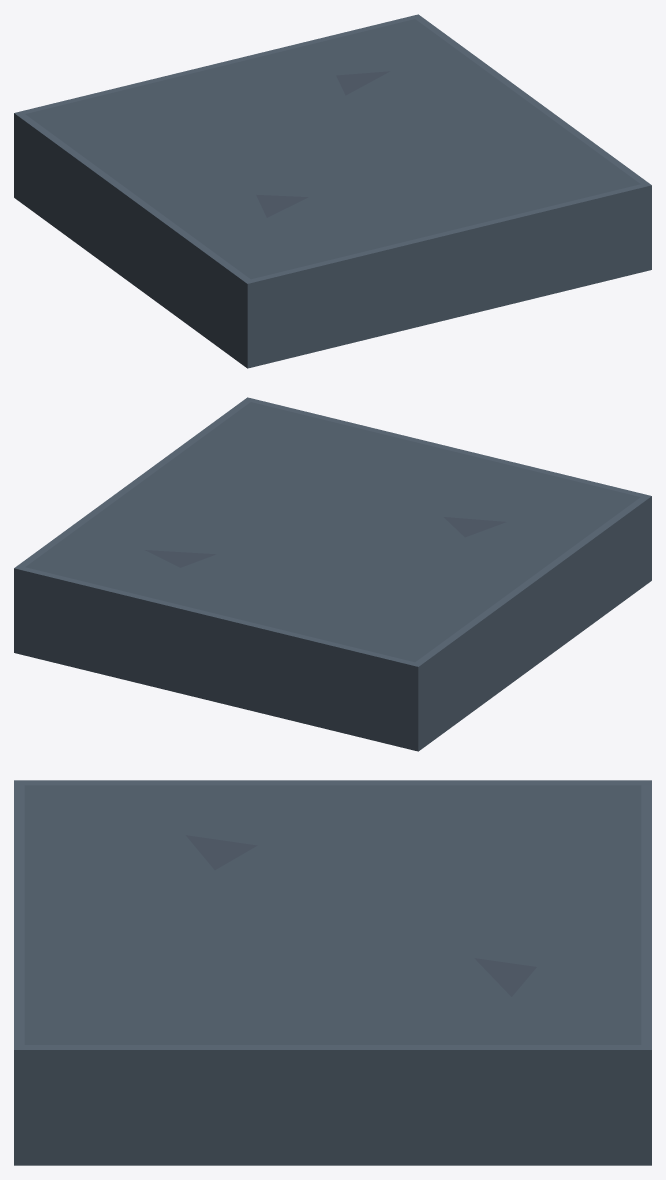
The model's file is ConcrateSlabs_C_4_2.fbx.
3 views of the same model, one above another, from view 1: azimuth 30°, elevation 25°; view 2: azimuth 150°, elevation 25°; view 3: azimuth 270°, elevation 25° (orthographic). The views are drawn at different scales.
Visible parts, largest first — view 1: ConcrateSlabs_C_4_2; view 2: ConcrateSlabs_C_4_2; view 3: ConcrateSlabs_C_4_2.
Boxes of the visible parts, x1,y1,x2,y2 form: ConcrateSlabs_C_4_2: (14, 14, 651, 368); ConcrateSlabs_C_4_2: (14, 397, 651, 751); ConcrateSlabs_C_4_2: (14, 780, 651, 1165).
Size of the model in its own units: 200 by 40 by 200.
